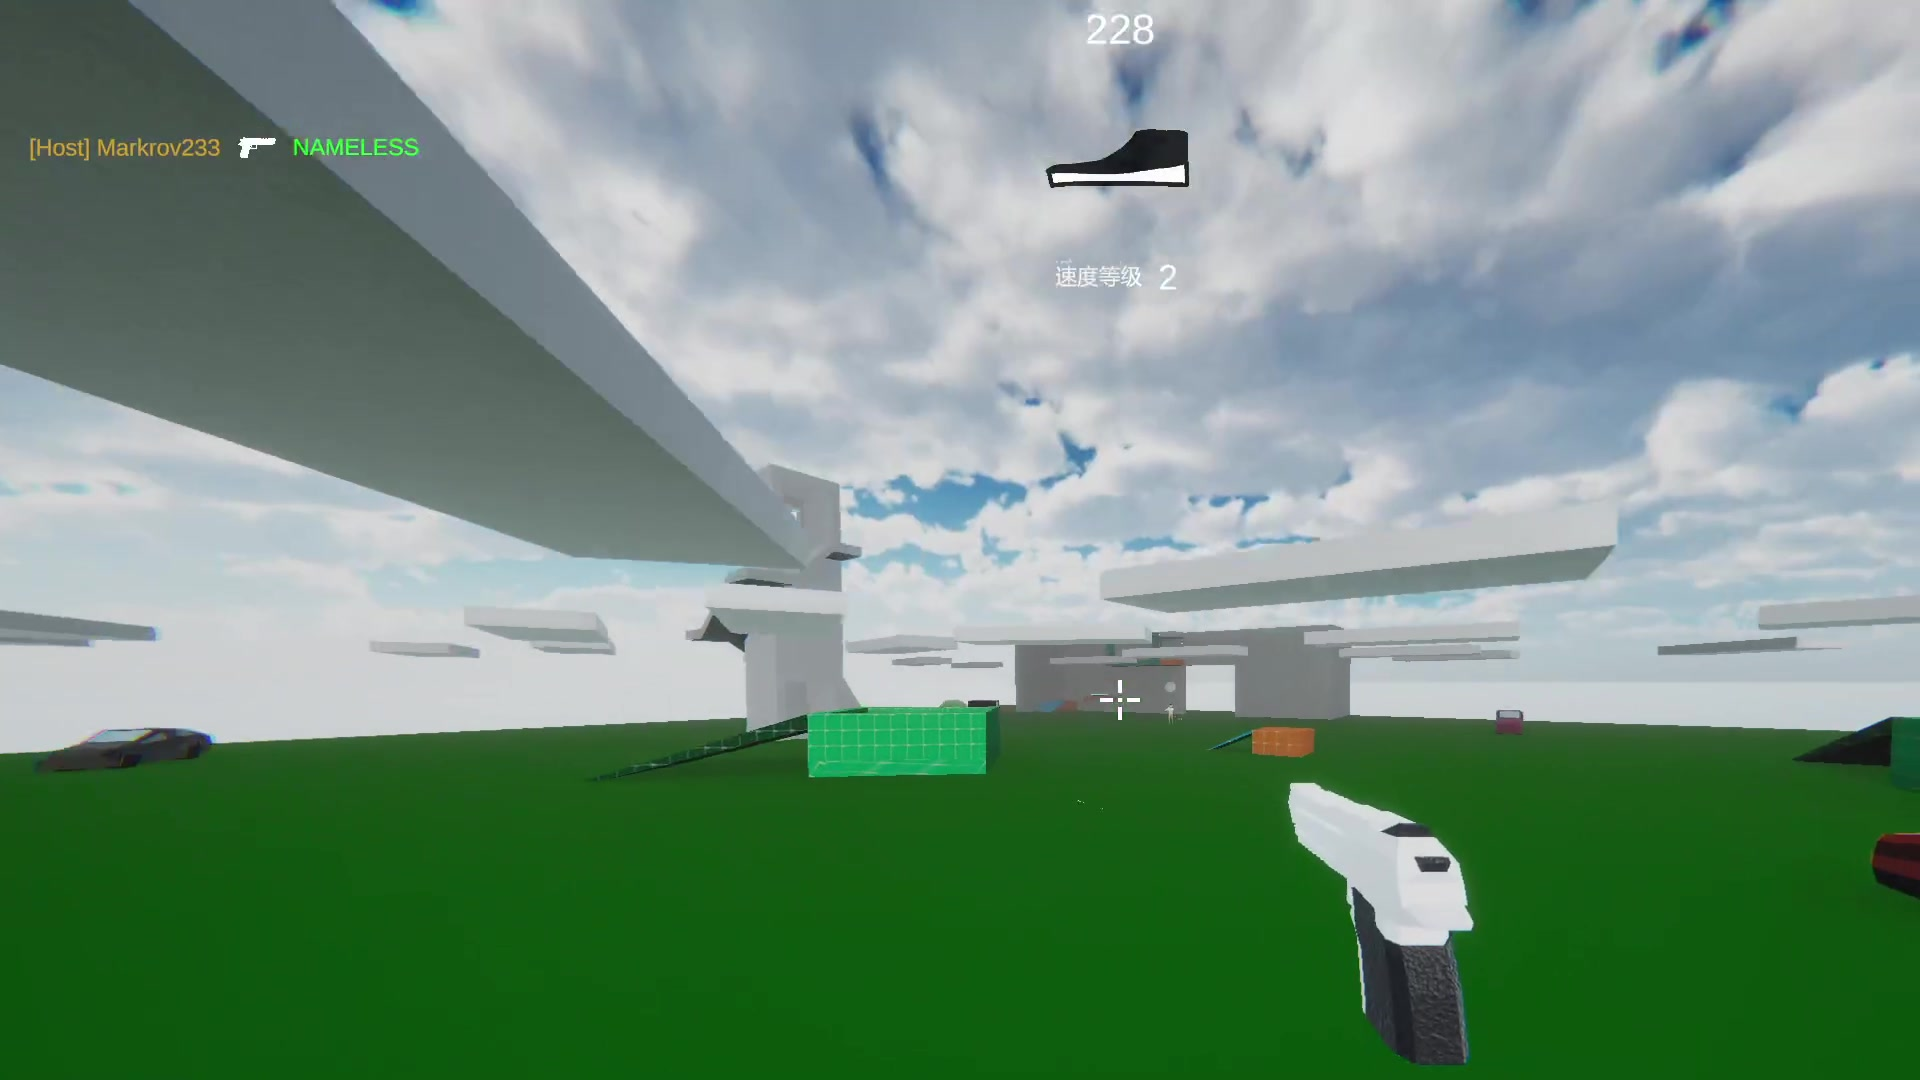human: (1166, 701, 1177, 720)
